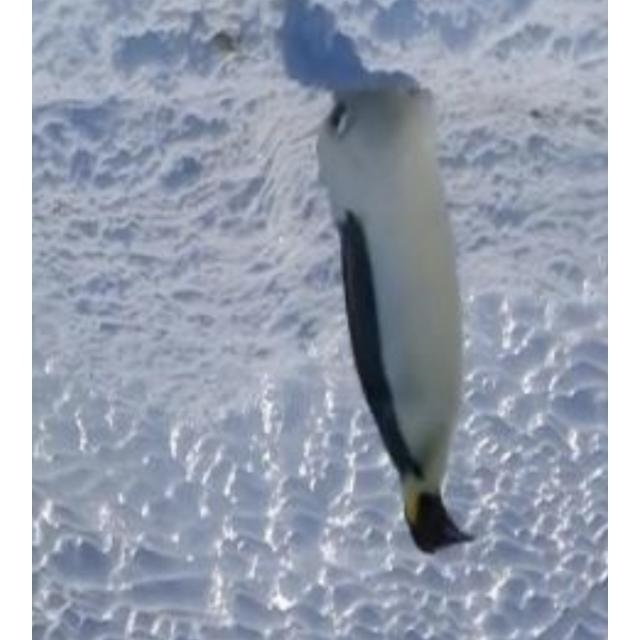penguin: (316, 87, 476, 556)
